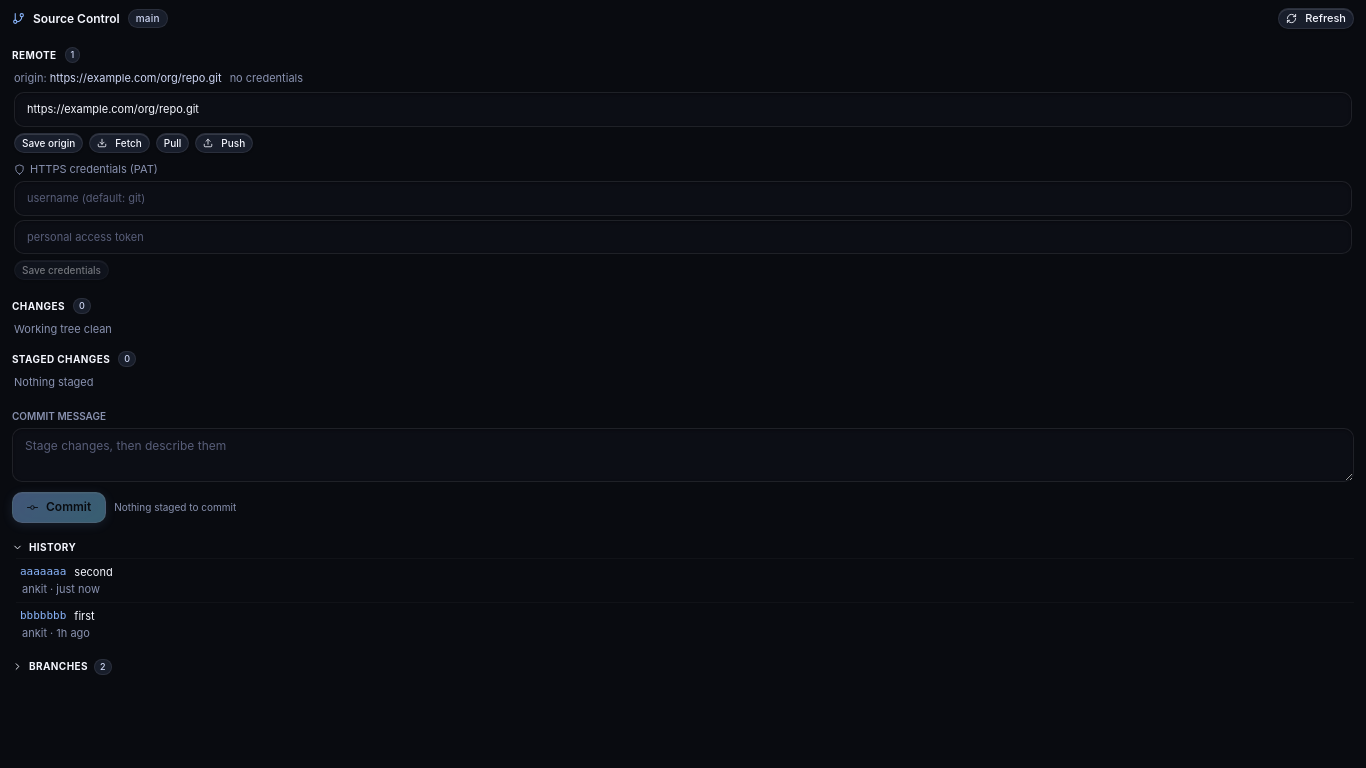
it: SourceControlPanel — M51 › M80. pull dirty worktree shows blocking paths
Click the button "Pull": (173, 143) left=156, top=133, right=189, bottom=153
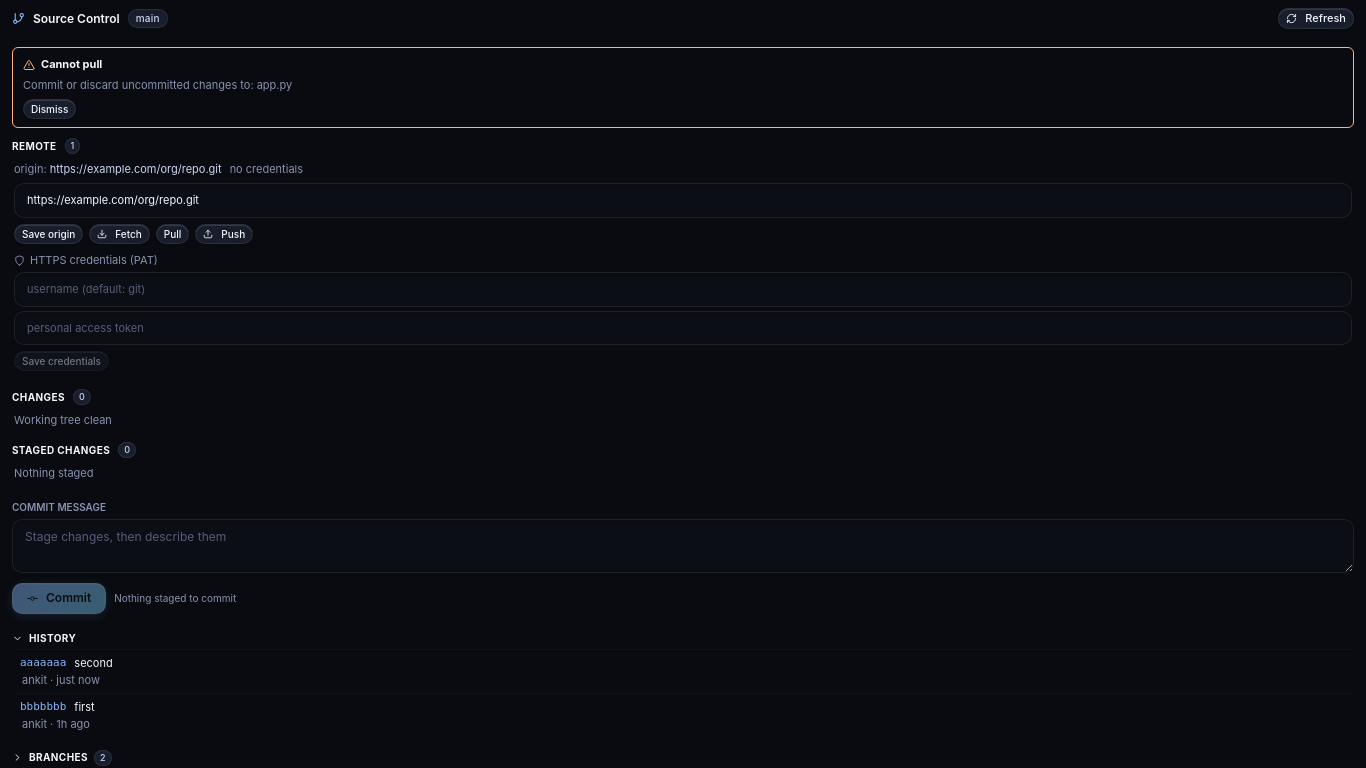
Result: the element with test id "git-pull-dirty" shows "app.py" at left=257, top=78, right=292, bottom=92
